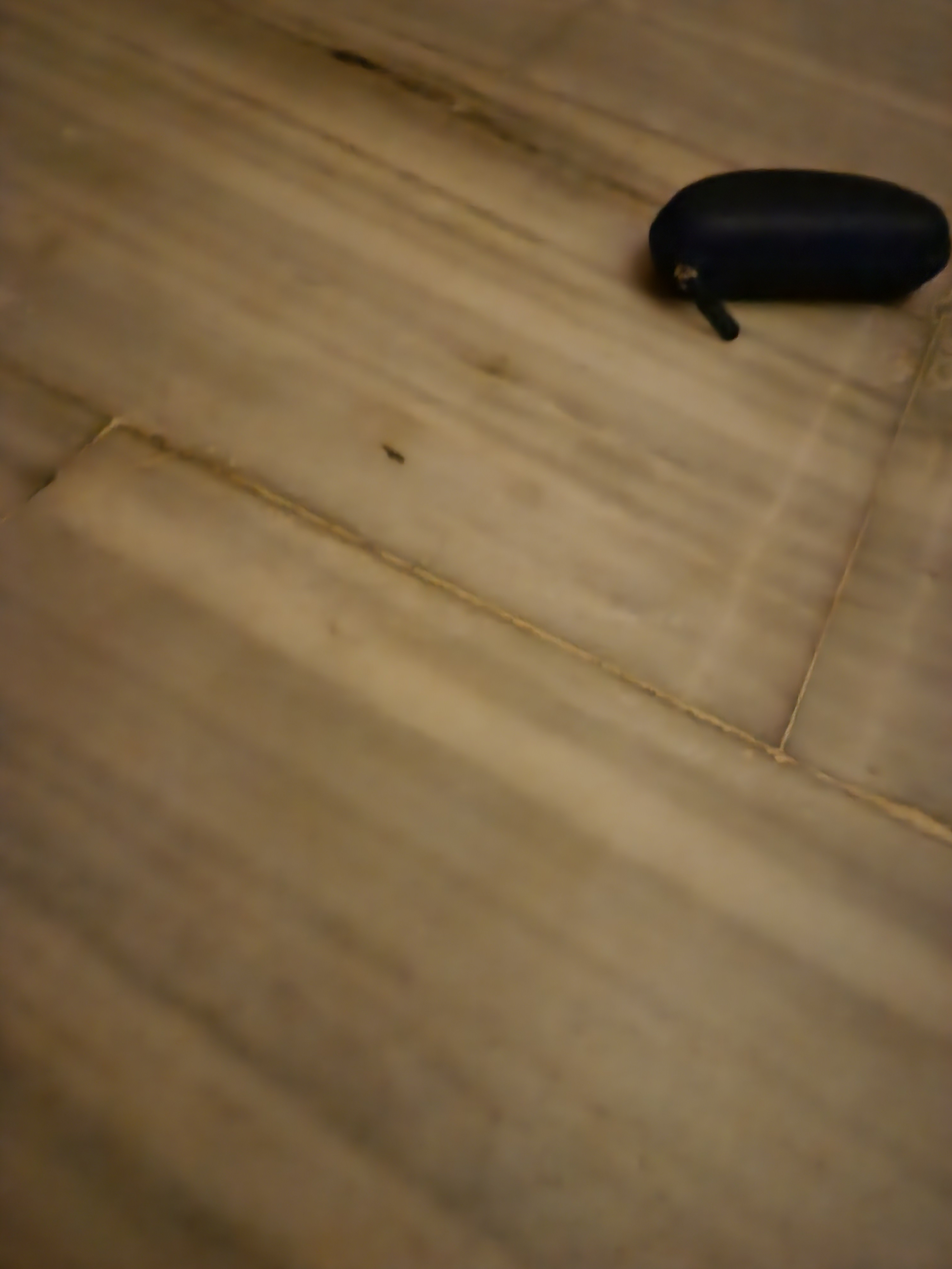case: (644, 166, 952, 348)
